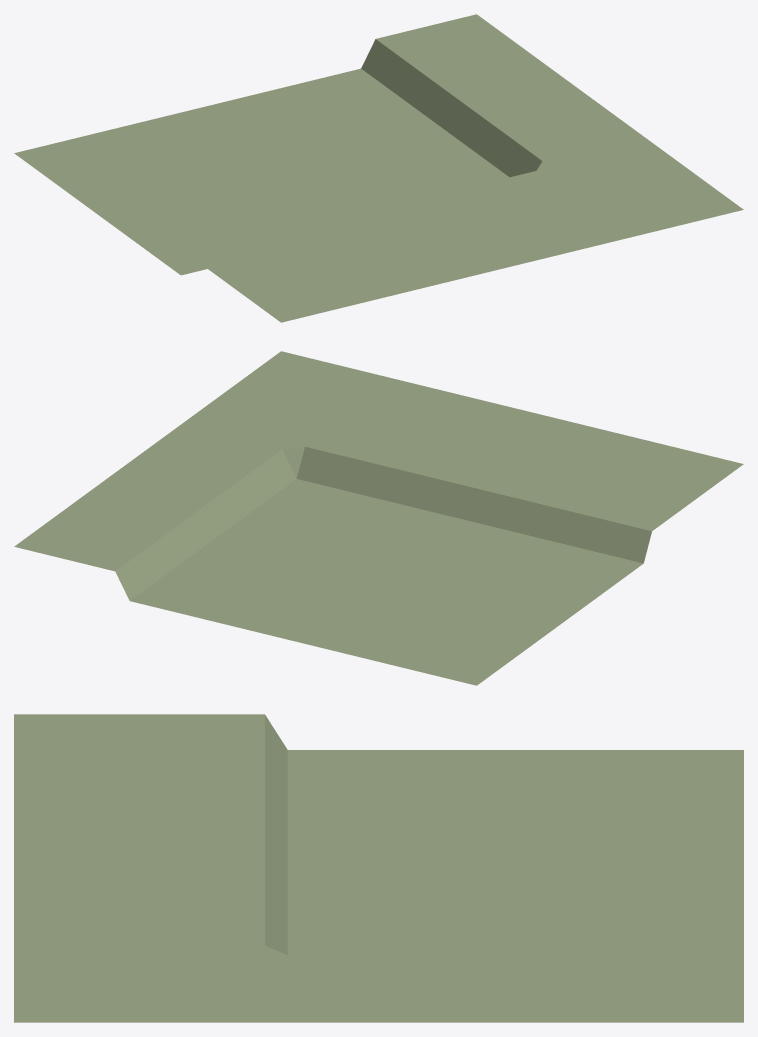
Rendered from canal-2-2.glb.
The picture shows the model from 3 angles, top to bottom: view 1: azimuth 30°, elevation 25°; view 2: azimuth 150°, elevation 25°; view 3: azimuth 270°, elevation 25°; orthographic projection. The views are drawn at different scales.
Visible parts, largest first — view 1: canal-2-2; view 2: canal-2-2; view 3: canal-2-2.
Part boxes in pixels (<box>): canal-2-2: <box>14,14,743,322</box>; canal-2-2: <box>14,351,743,685</box>; canal-2-2: <box>14,714,743,1022</box>.
Size of the model in its own units: 128 by 6.9 by 128.
